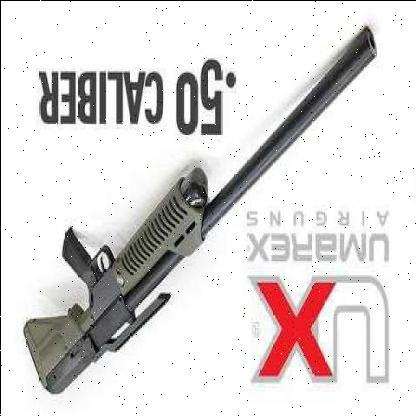rifle: (19, 178, 212, 397)
